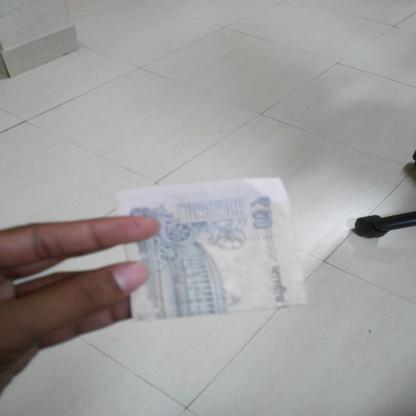Old50Back: (115, 177, 308, 322)
